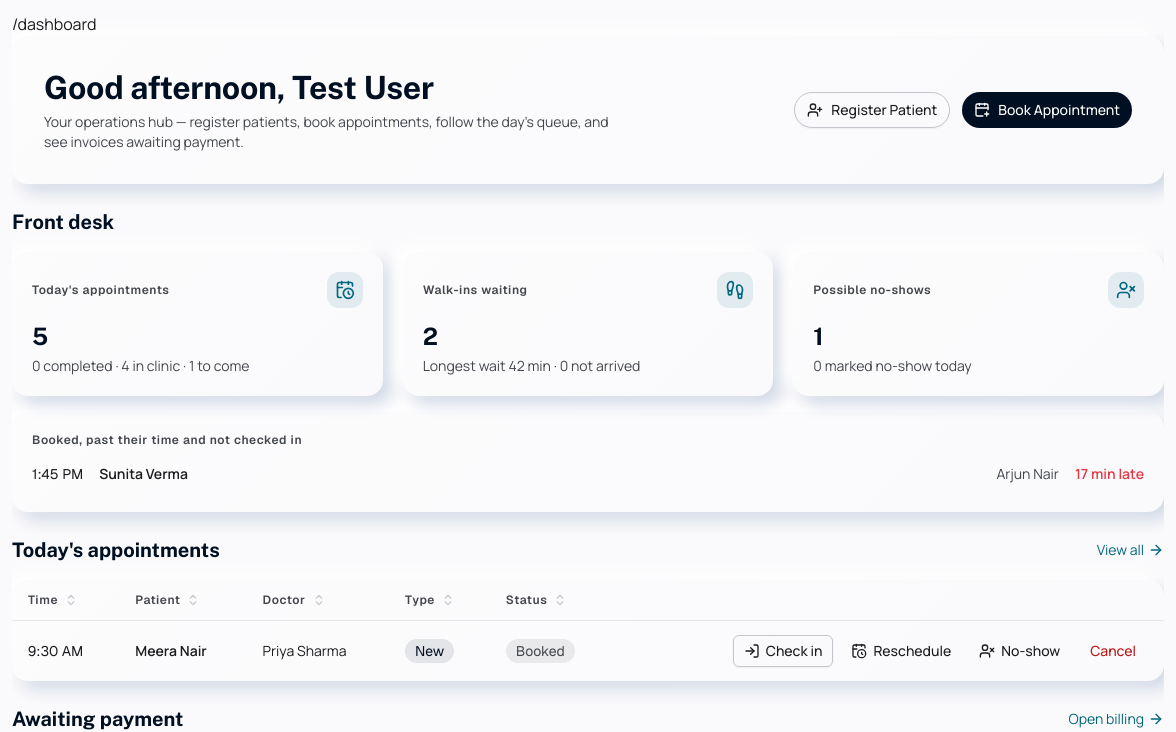
it: receptionist: dashboard › checks a patient in from the home page, and offers nothing a doctor does next
Click the button with aria-label "Check in Meera Nair": (783, 651) [733, 635, 833, 667]
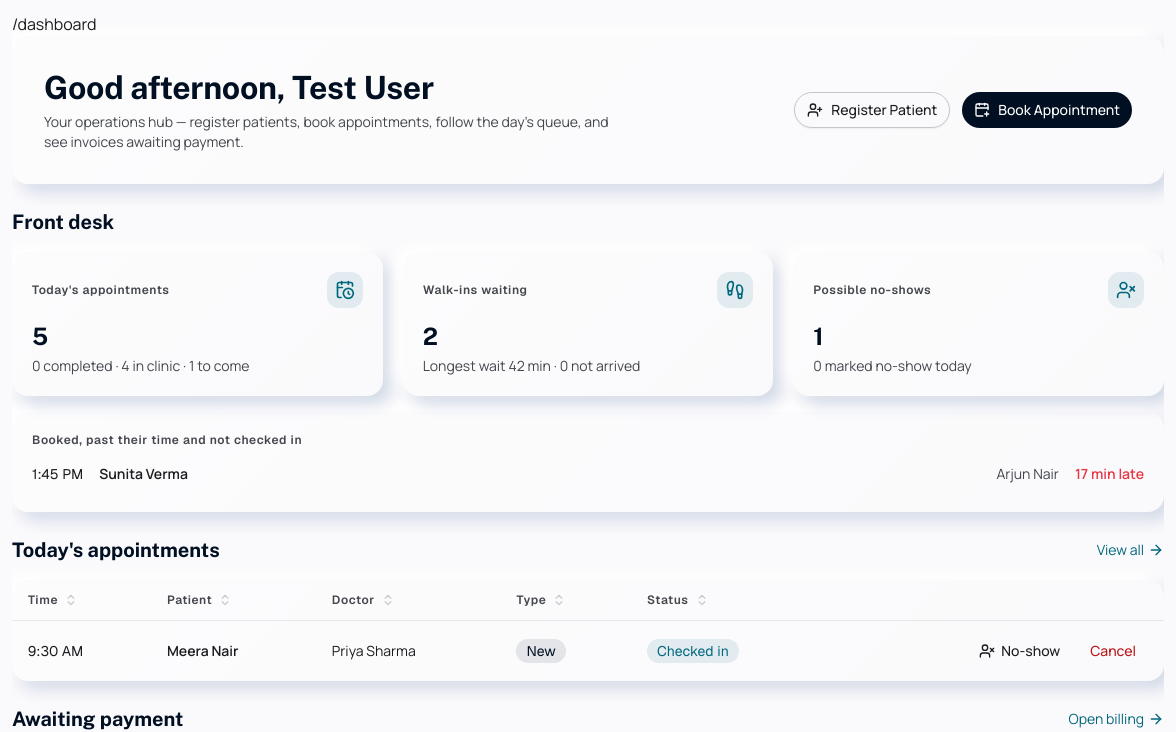
Expected: the button with aria-label "Cancel appointment" is shown, [1078, 635, 1148, 667]
Expected: the text "Checked in" is shown, [647, 639, 739, 663]
